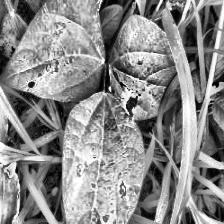ALS: (63, 95, 139, 224), (10, 0, 100, 96), (104, 16, 187, 119)
